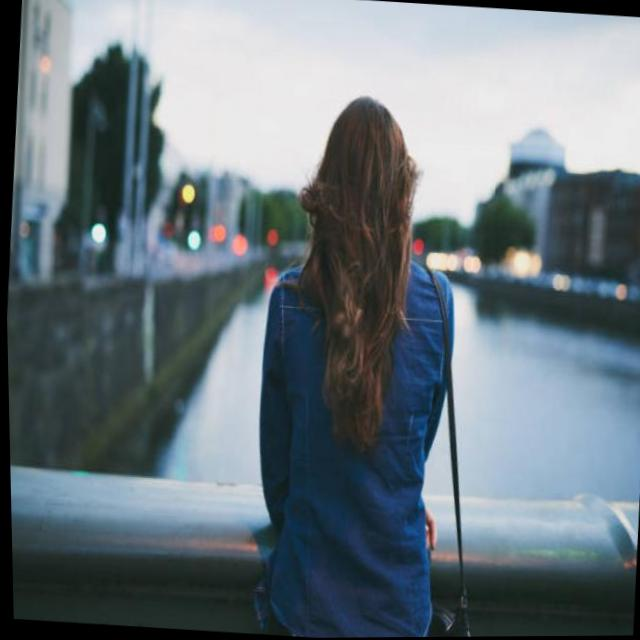no helmet: (290, 86, 429, 462)
